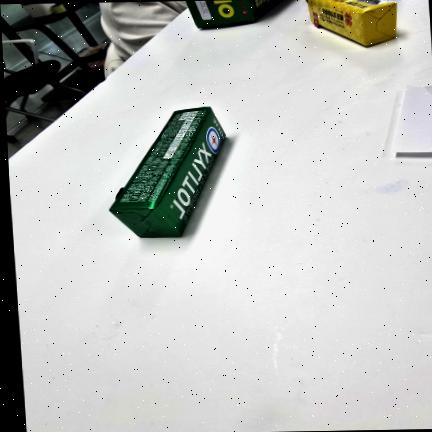gum_green: (110, 106, 225, 237)
